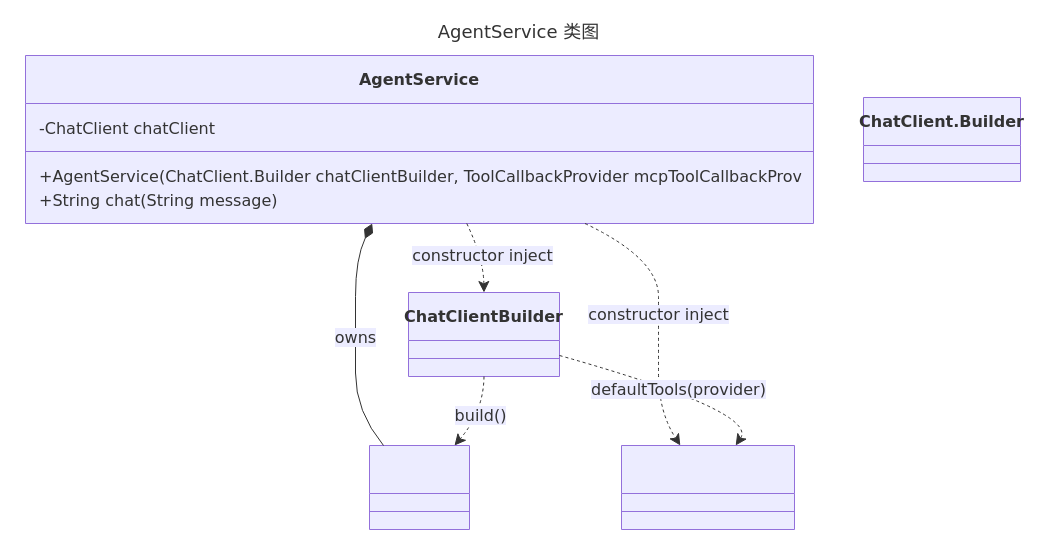
This 1041x547 diagram has some shape labels left out. The shapes that lost their labels are listed below. From the top down, each one's box as (x1, y1, x2, y2) in pixels, then its label:
(368, 444, 470, 530): ChatClient
(620, 444, 794, 530): ToolCallbackProvider
